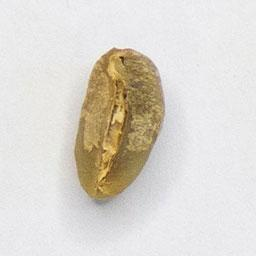longberry: (72, 42, 168, 202)
